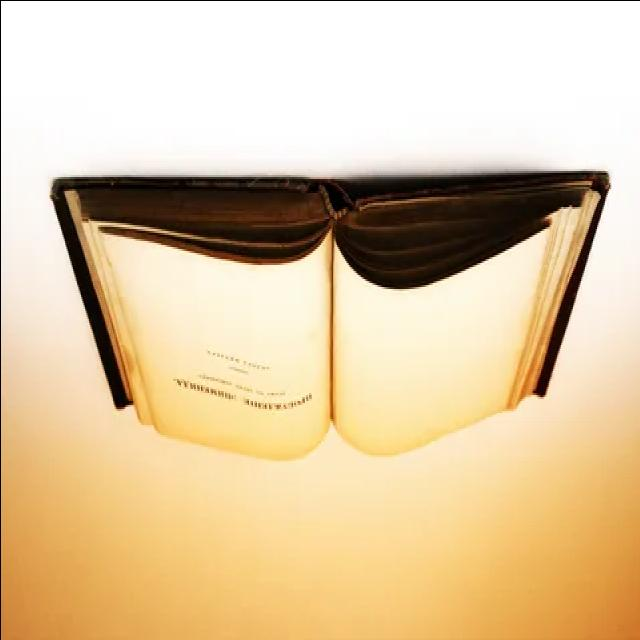book: (36, 137, 624, 470)
